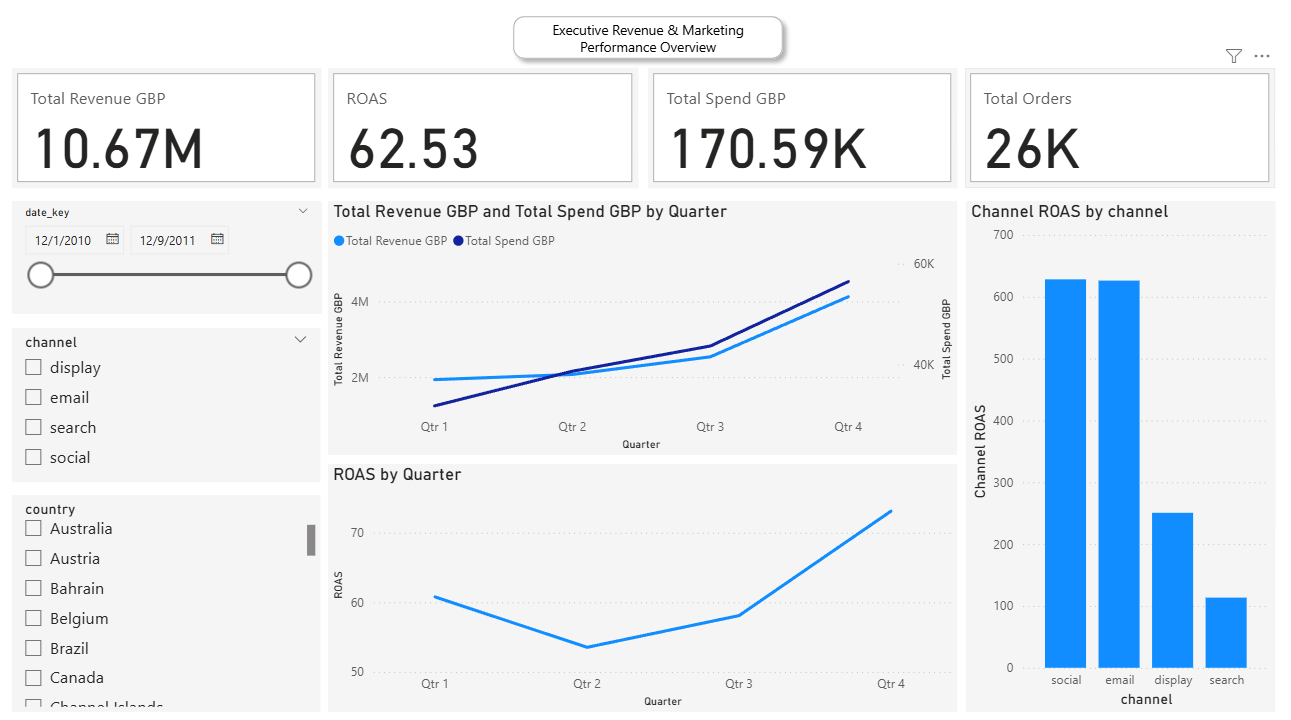

The dashboard page shown, as its layout file describes it:
{"tool":"powerbi","page":{"name":"Performance Overview","canvas":[1280,720],"ordinal":0},"visuals":[{"type":"shape","box":[499.9,23.3,280.1,59.3],"z":0},{"type":"cardVisual","fields":{"Data":["Table.Total Revenue GBP"]},"box":[21.4,82.7,300.5,116.7],"z":1000},{"type":"cardVisual","fields":{"Data":["Table.Total Spend GBP"]},"box":[640,82.7,300.5,116.7],"z":2000},{"type":"cardVisual","fields":{"Data":["Table.Return on Advertisements Spend"]},"box":[328.8,82.7,301.5,116.7],"z":3000},{"type":"cardVisual","fields":{"Data":["Table.Total Orders"]},"box":[948.3,82.7,301.5,116.7],"z":4000},{"type":"lineChart","fields":{"Y":["Table.Total Revenue GBP"],"Category":["mart dim_date.date_key.Variation.Date Hierarchy.Quarter"],"Y2":["Table.Total Spend GBP"]},"box":[328.8,212,611.8,247.1],"z":5000},{"type":"lineChart","fields":{"Y":["Table.Return on Advertisements Spend"],"Category":["mart dim_date.date_key.Variation.Date Hierarchy.Quarter"]},"box":[328.8,467.8,611.8,241.2],"z":6000},{"type":"clusteredColumnChart","fields":{"Category":["staging stg_daily_ad_spend.channel"],"Y":["Table.Channel ROAS"]},"box":[949.3,212,300.5,497],"z":7000},{"type":"slicer","fields":{"Values":["mart dim_date.date_key"]},"box":[21.4,212,300.5,108.9],"z":8000},{"type":"slicer","fields":{"Values":["staging stg_daily_ad_spend.channel"]},"box":[21.4,335.6,299.6,149.8],"z":9000},{"type":"slicer","fields":{"Values":["mart agg_daily_revenue.country"]},"box":[21.4,498,299.6,211.1],"z":10000}]}

Visuals, with their boxes in screenshot pixels (x1, y1, x2, y2), scaled from the page's 1280x720 canvas onto the 1291x720 screenshot:
shape: 504,23,787,83
cardVisual - Table.Total Revenue GBP: 22,83,325,199
cardVisual - Table.Total Spend GBP: 646,83,949,199
cardVisual - Table.Return on Advertisements Spend: 332,83,636,199
cardVisual - Table.Total Orders: 956,83,1261,199
lineChart - Table.Total Revenue GBP x mart dim_date.date_key.Variation.Date Hierarchy.Quarter: 332,212,949,459
lineChart - Table.Return on Advertisements Spend x mart dim_date.date_key.Variation.Date Hierarchy.Quarter: 332,468,949,709
clusteredColumnChart - staging stg_daily_ad_spend.channel x Table.Channel ROAS: 957,212,1261,709
slicer - mart dim_date.date_key: 22,212,325,321
slicer - staging stg_daily_ad_spend.channel: 22,336,324,485
slicer - mart agg_daily_revenue.country: 22,498,324,709
